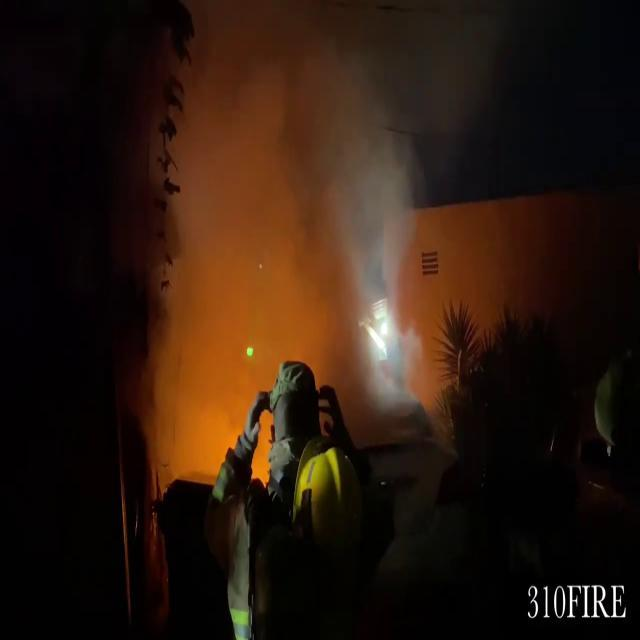Smoke: (120, 1, 428, 422)
